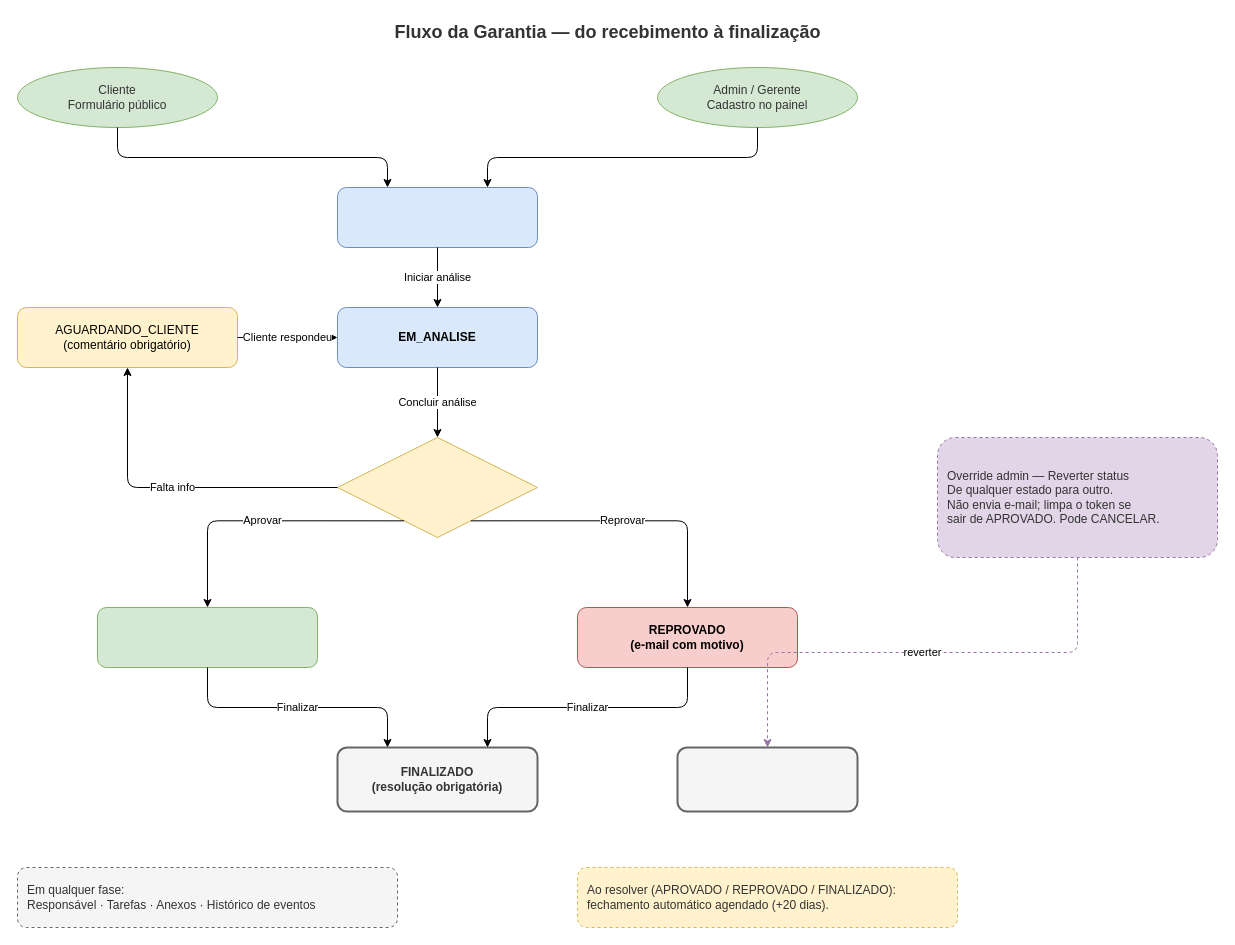
Image size: 1235x945. Some labels were removed from this diagram. The shapes that lost their labels are listed below. From the top down, each one's centre as x and y in pixels, then its label:
At (x=437, y=217): "RECEBIDO".
At (x=437, y=487): "Resultado da análise?".
At (x=207, y=637): "APROVADO (e-mail + token ao cliente)".
At (x=767, y=779): "CANCELADO".
